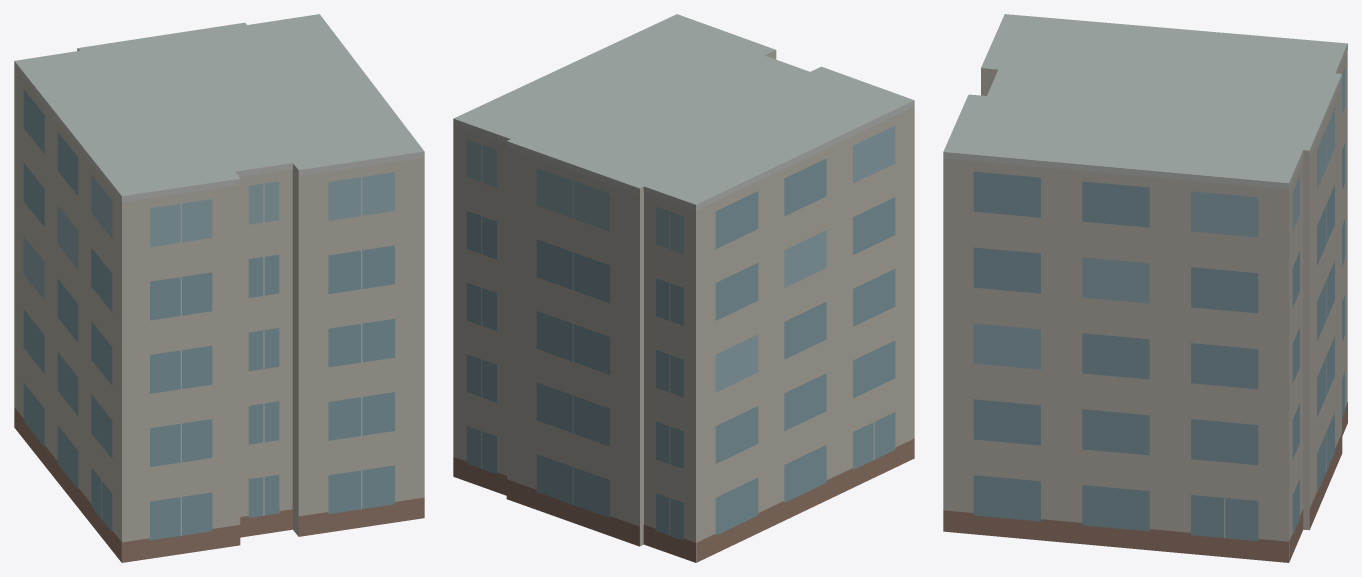
Rendered from survey-upis-32660205.glb.
3 views of the same model, side by side, from view 1: azimuth 30°, elevation 25°; view 2: azimuth 150°, elevation 25°; view 3: azimuth 270°, elevation 25° (orthographic). The views are drawn at different scales.
Parts seen in each view (by area): view 1: survey-upis-32660205.tmp; view 2: survey-upis-32660205.tmp; view 3: survey-upis-32660205.tmp.
Part boxes in pixels (x1,y1,x2,y2): survey-upis-32660205.tmp: [14, 14, 424, 562]; survey-upis-32660205.tmp: [453, 14, 914, 562]; survey-upis-32660205.tmp: [943, 14, 1347, 562].
Size of the model in its own units: 13.78 by 14.4 by 13.92.
